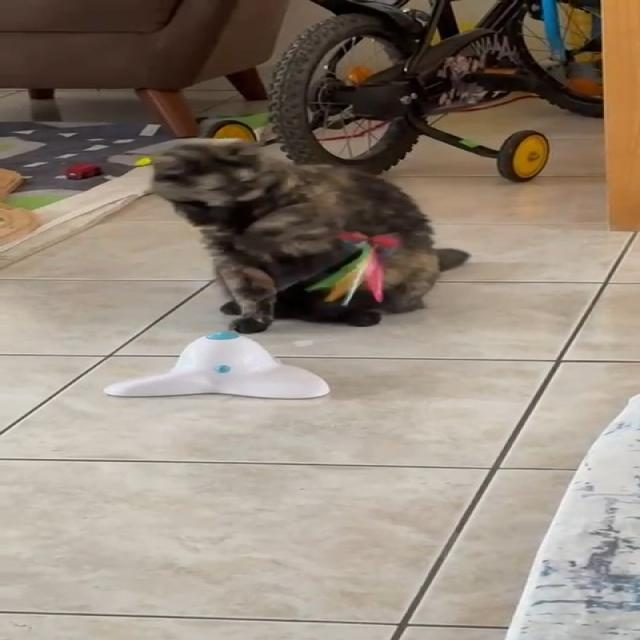authorized: (148, 139, 471, 333)
